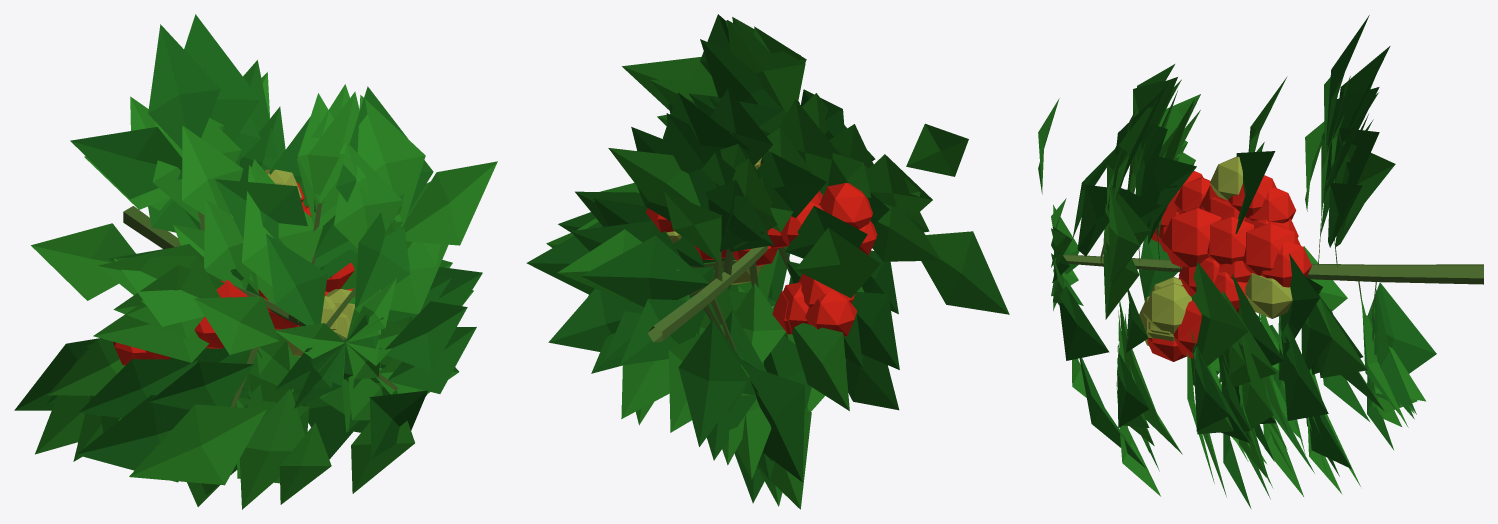
File: healthy_1.obj
3 renders of one model, left to right at view 1: azimuth 30°, elevation 25°; view 2: azimuth 150°, elevation 25°; view 3: azimuth 270°, elevation 25°, orthographic. The views are drawn at different scales.
Size of the model in its own units: 0.7567 by 0.784 by 0.6589.
